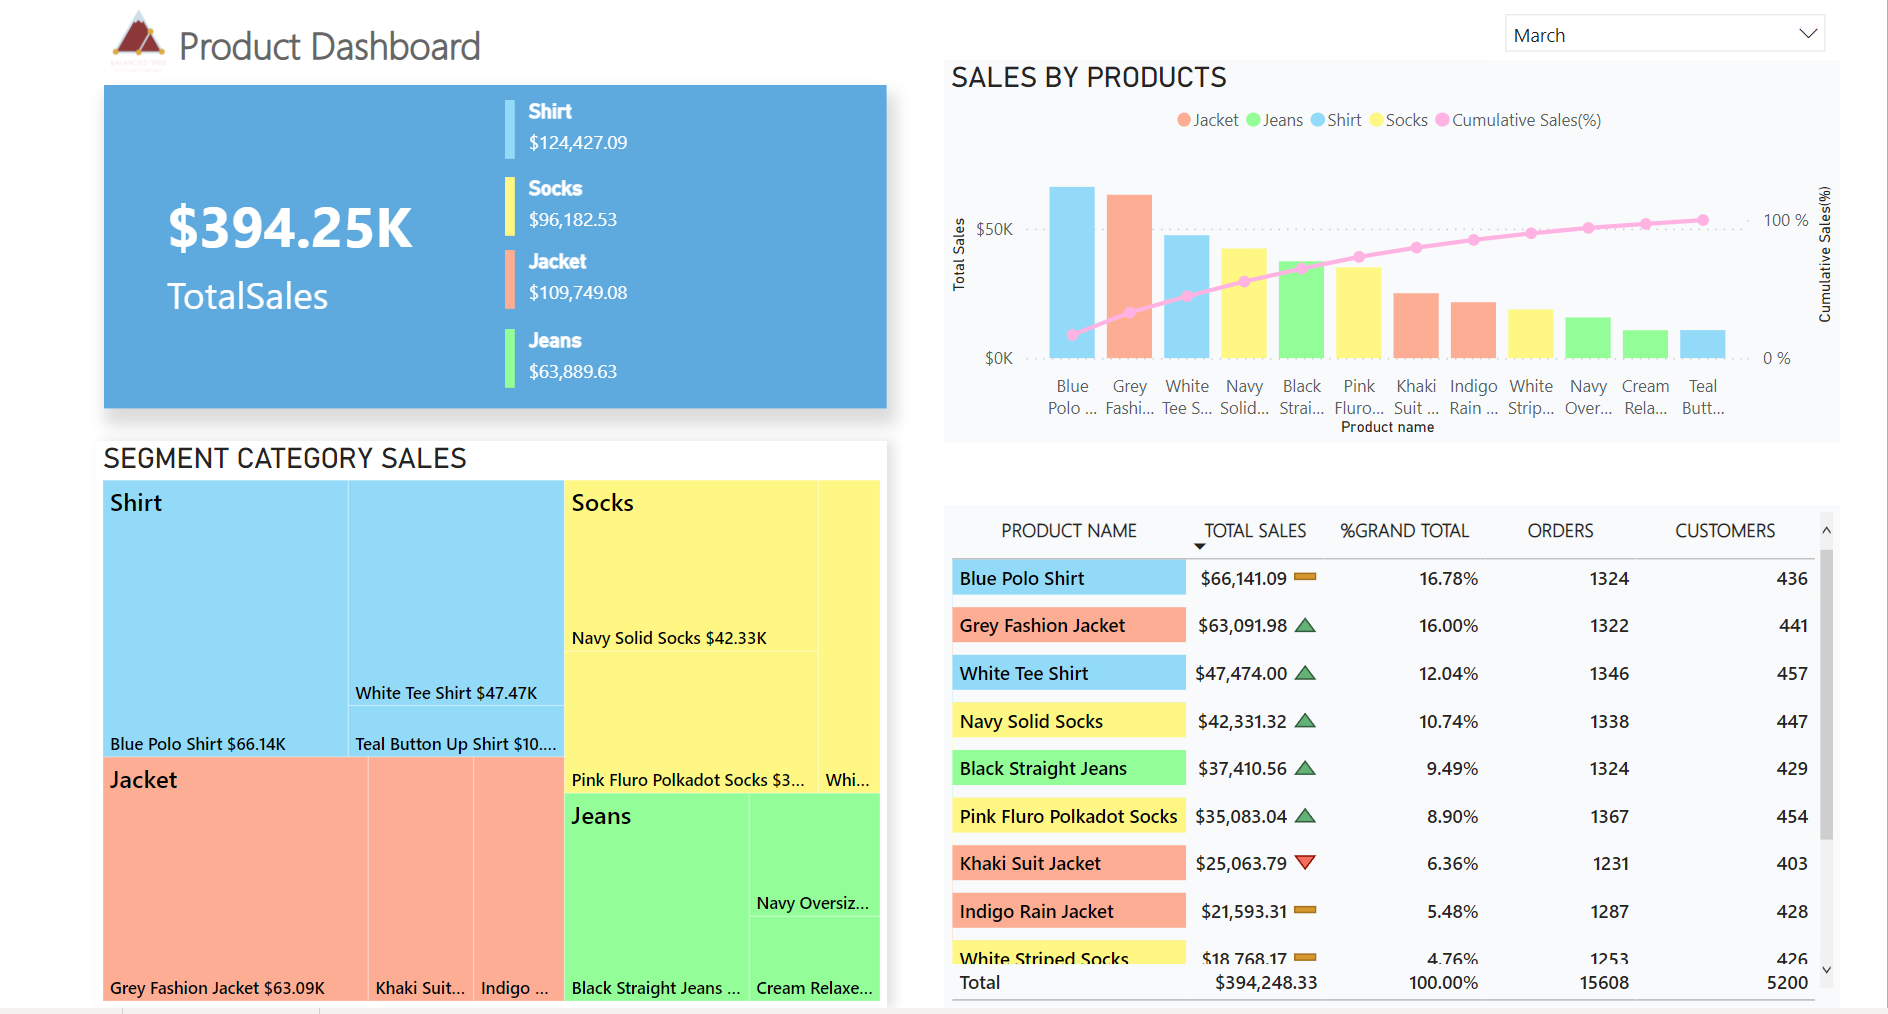

This screenshot's page, from the dashboard's own definition file:
{"tool":"powerbi","page":{"name":"Page 1","canvas":[1280,720],"ordinal":0},"visuals":[{"type":"treemap","title":"SEGMENT CATEGORY SALES","fields":{"Group":["product_details.segment_name"],"Values":["sales.MTotalSales"],"Details":["product_details.product_name"]},"box":[34,315.1,565.1,404.6],"z":0},{"type":"tableEx","fields":{"Values":["product_details.product_name","Sum(sales.TotalSales)","Divide(Sum(sales.TotalSales), ScopedEval(Sum(sales.TotalSales), []))","Sum(sales.qty)","sales.member"]},"box":[640,360.4,640,359.5],"z":1000},{"type":"lineStackedColumnComboChart","title":"SALES BY PRODUCTS","fields":{"Category":["product_details.product_name"],"Y":["Sum(sales.TotalSales)"],"Y2":["Sum(product_details.%sales)"],"Series":["product_details.segment_name"]},"box":[640,42.9,640,272.8],"z":2000},{"type":"slicer","fields":{"Values":["sales.start_txn_time.Variation.Date Hierarchy.Month"]},"box":[1030.6,0,249.4,42.9],"z":3000},{"type":"advanceCardE03760C5AB684758B56AA29F9E6C257B","fields":{"mainMeasure":["Sum(sales.TotalSales)"]},"box":[39.9,60.4,559.1,230.9],"z":4000},{"type":"multiRowCard","fields":{"Values":["product_details.segment_name","Sum(sales.TotalSales)"]},"box":[321.5,66.2,201.6,55.5],"z":5000},{"type":"multiRowCard","fields":{"Values":["product_details.segment_name","Sum(sales.TotalSales)"]},"box":[321.5,121.8,201.6,51.6],"z":6000},{"type":"multiRowCard","fields":{"Values":["product_details.segment_name","Sum(sales.TotalSales)"]},"box":[321.5,173.4,201.6,56.5],"z":7000},{"type":"multiRowCard","fields":{"Values":["product_details.segment_name","Sum(sales.TotalSales)"]},"box":[321.5,229.9,201.6,54.6],"z":8000},{"type":"textbox","box":[88.6,7.8,295.2,45.8],"z":9000},{"type":"image","box":[34.1,0,62.3,60.4],"z":10000}]}

Visuals, with their boxes in screenshot pixels (x1, y1, x2, y2):
"SEGMENT CATEGORY SALES" treemap: 96/432/880/993
tableEx - product_details.product_name x Sum(sales.TotalSales): 937/495/1825/994
"SALES BY PRODUCTS" lineStackedColumnComboChart: 937/55/1825/433
slicer - sales.start_txn_time.Variation.Date Hierarchy.Month: 1479/0/1825/55
advanceCardE03760C5AB684758B56AA29F9E6C257B - Sum(sales.TotalSales): 105/79/880/399
multiRowCard - product_details.segment_name x Sum(sales.TotalSales): 495/87/775/164
multiRowCard - product_details.segment_name x Sum(sales.TotalSales): 495/164/775/236
multiRowCard - product_details.segment_name x Sum(sales.TotalSales): 495/236/775/314
multiRowCard - product_details.segment_name x Sum(sales.TotalSales): 495/314/775/390
textbox: 172/6/582/69
image: 96/0/183/79
